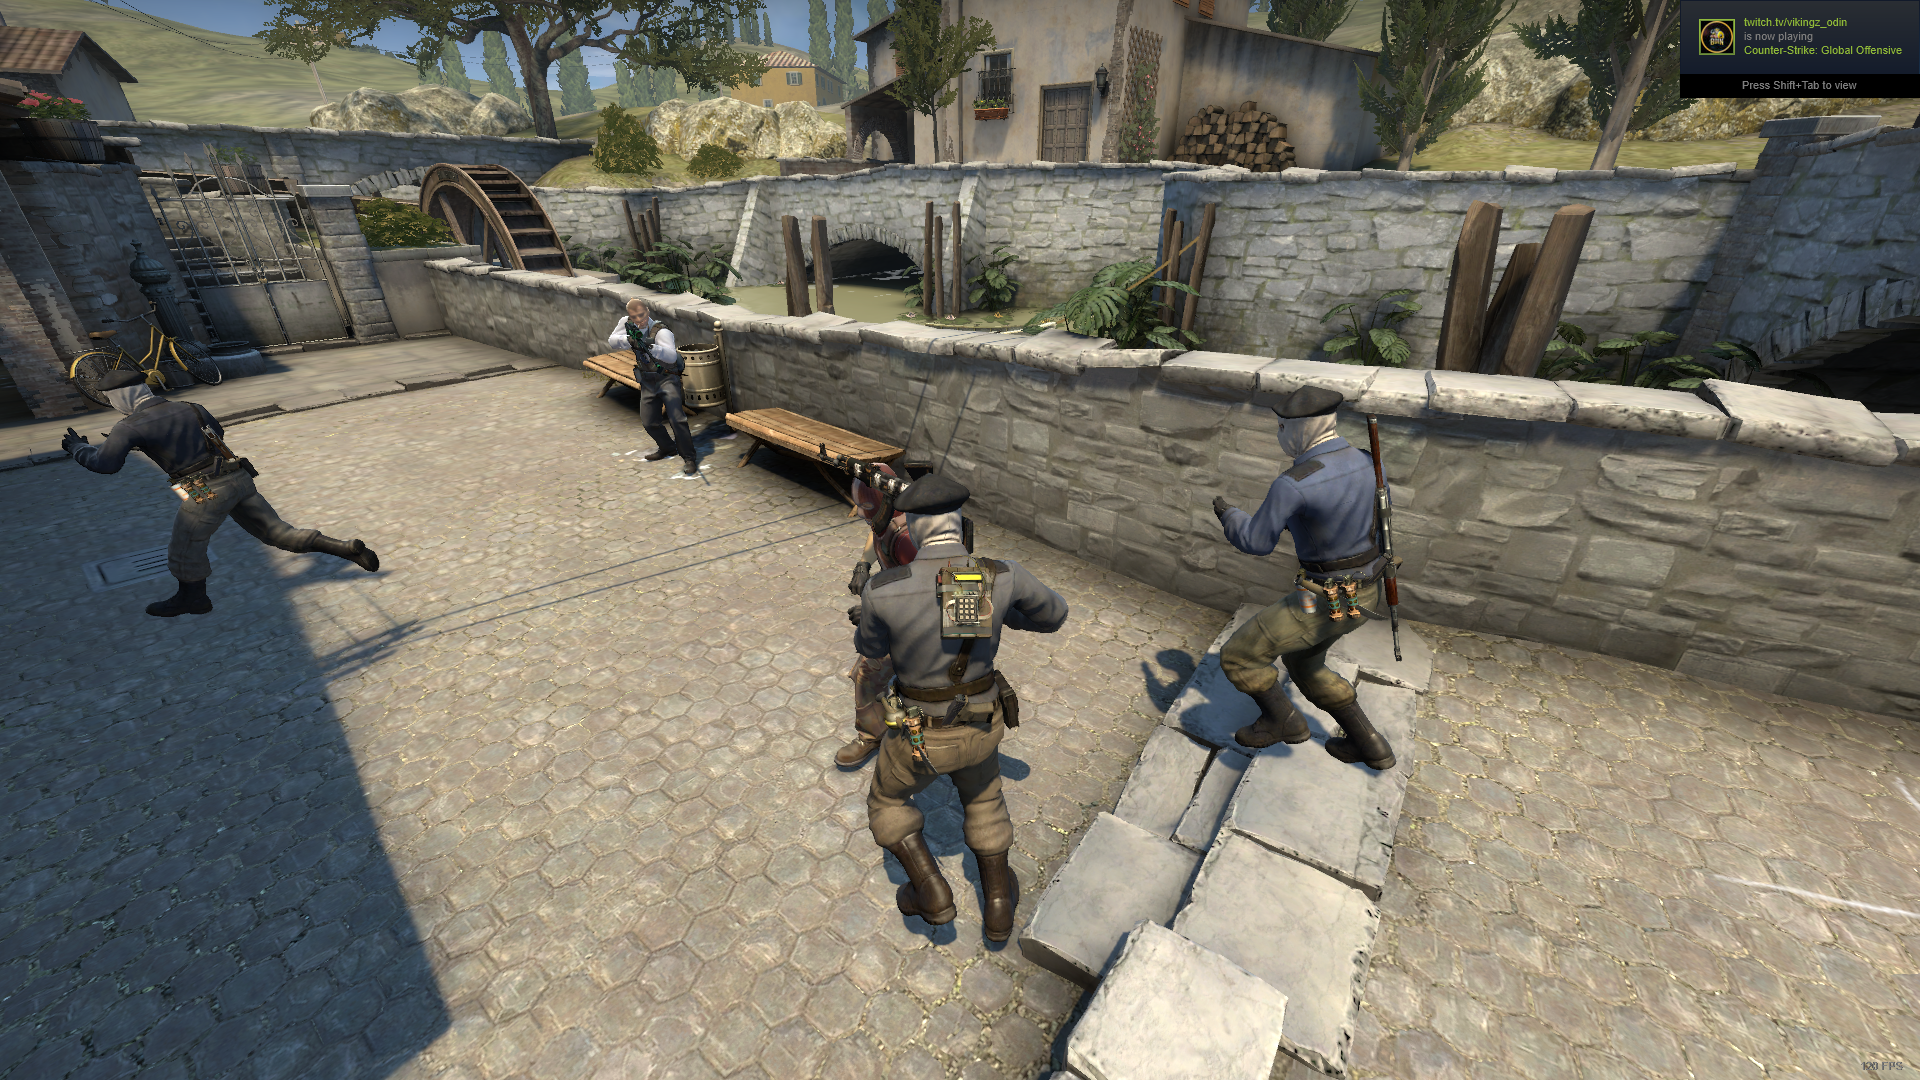t: (849, 483, 1064, 961), (40, 369, 409, 626), (1192, 380, 1415, 798)
